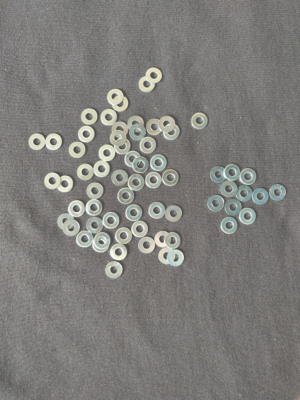circle: (110, 244, 128, 261), (99, 144, 116, 162), (86, 217, 104, 234), (29, 133, 46, 151), (168, 250, 185, 267), (159, 248, 176, 265), (155, 231, 172, 248), (221, 217, 238, 234), (240, 208, 257, 225), (139, 237, 156, 254), (270, 184, 287, 201), (253, 188, 270, 205), (225, 199, 242, 216), (208, 195, 225, 212), (166, 205, 183, 222), (149, 202, 166, 219), (132, 221, 149, 238), (126, 204, 143, 221), (146, 172, 163, 189), (150, 154, 167, 171), (192, 113, 209, 130), (106, 262, 123, 279), (103, 212, 120, 229), (140, 137, 157, 154), (110, 130, 127, 147), (114, 138, 131, 155), (125, 151, 142, 168), (94, 161, 111, 178), (77, 164, 94, 181), (57, 176, 74, 193), (44, 173, 61, 190), (87, 183, 104, 200), (69, 200, 86, 217), (63, 220, 80, 237), (94, 233, 111, 250), (93, 236, 110, 253), (77, 231, 94, 248), (101, 109, 118, 126), (81, 108, 98, 125), (69, 141, 86, 158), (165, 232, 181, 250), (147, 118, 163, 136), (236, 186, 253, 202), (221, 181, 238, 197), (240, 169, 257, 185), (225, 164, 241, 181), (211, 166, 227, 183), (118, 188, 135, 204), (128, 175, 145, 191), (163, 170, 180, 186), (164, 124, 181, 140), (159, 116, 175, 133), (116, 228, 133, 244), (130, 124, 146, 141), (112, 96, 129, 112), (86, 200, 103, 216), (58, 213, 74, 230), (79, 126, 95, 143), (46, 133, 62, 150), (139, 76, 156, 92), (146, 68, 163, 84), (133, 157, 149, 174), (112, 170, 128, 186), (128, 116, 144, 132), (108, 89, 124, 105), (112, 122, 128, 138)
